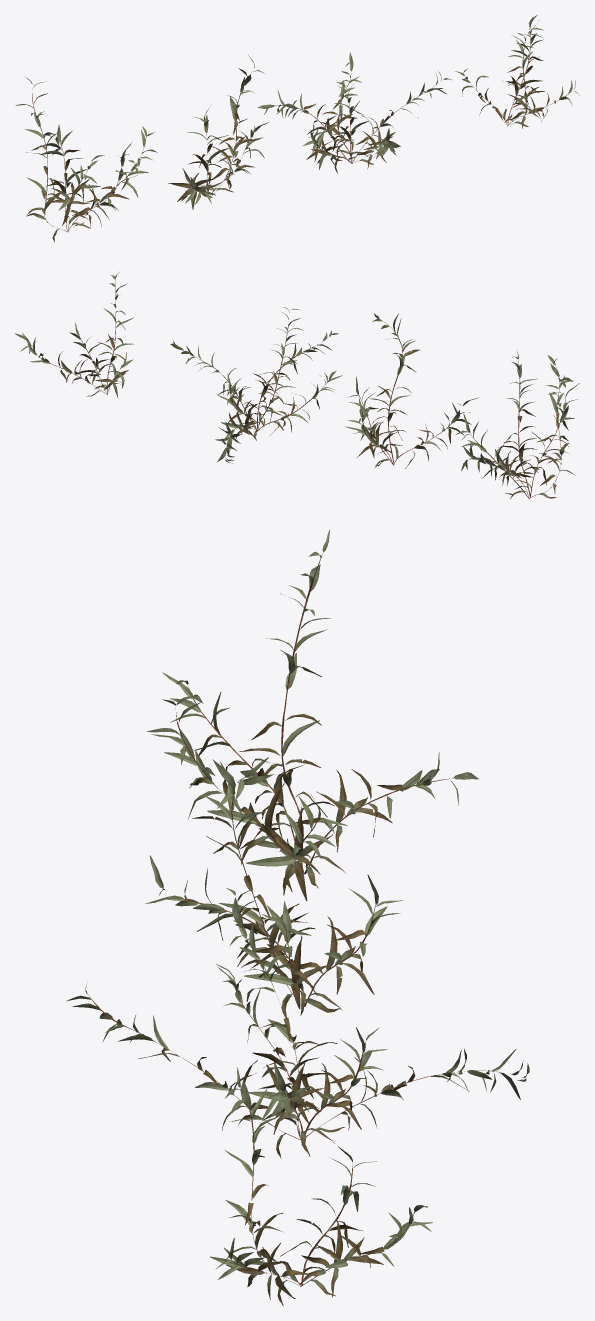
File: shrub_02.glb
3 renders of one model, top to bottom at view 1: azimuth 30°, elevation 25°; view 2: azimuth 150°, elevation 25°; view 3: azimuth 270°, elevation 25°, orthographic. The views are drawn at different scales.
Visible parts, largest first — view 1: shrub_02_c, shrub_02_a, shrub_02_b, shrub_02_d; view 2: shrub_02_a, shrub_02_c, shrub_02_b, shrub_02_d; view 3: shrub_02_a, shrub_02_c, shrub_02_b, shrub_02_d.
Boxes of the visible parts, x1,y1,x2,y2 form: shrub_02_c: [257, 52, 451, 173]; shrub_02_a: [15, 77, 157, 242]; shrub_02_b: [168, 55, 268, 209]; shrub_02_d: [455, 15, 579, 128]; shrub_02_a: [455, 350, 579, 498]; shrub_02_c: [170, 307, 342, 463]; shrub_02_b: [345, 313, 478, 468]; shrub_02_d: [14, 272, 134, 398]; shrub_02_a: [146, 529, 478, 900]; shrub_02_c: [66, 888, 529, 1158]; shrub_02_b: [145, 757, 403, 1018]; shrub_02_d: [210, 1067, 432, 1305].
Bounding box in the file's own units: 6.05 × 1.7 × 2.29.
1 material, 1 textured.
